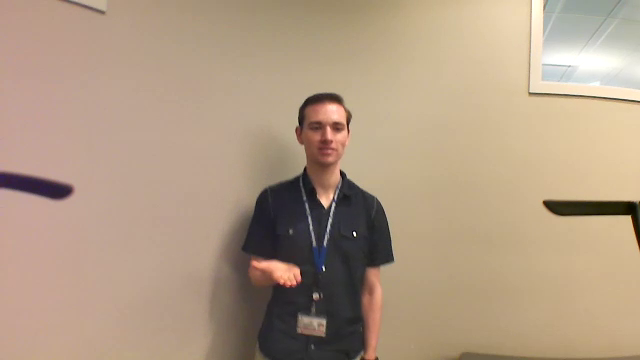land: (245, 248, 305, 295)
